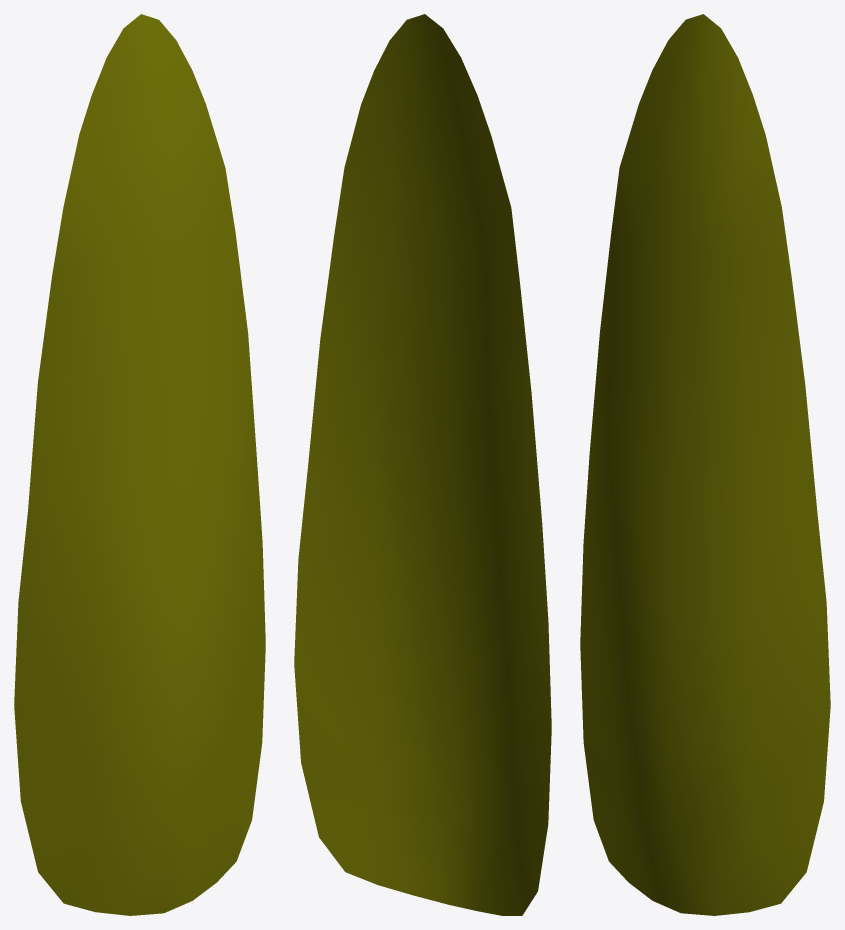
The model's file is MD_nail_point_HandL.Little.fbx.
3 views of the same model, side by side, from view 1: azimuth 30°, elevation 25°; view 2: azimuth 150°, elevation 25°; view 3: azimuth 330°, elevation 25° (orthographic). The views are drawn at different scales.
Visible parts, largest first — view 1: MD_nail_point_HandL.Little; view 2: MD_nail_point_HandL.Little; view 3: MD_nail_point_HandL.Little.
Part boxes in pixels (left/top/right/bottom): MD_nail_point_HandL.Little: left=14, top=14, right=265, bottom=915; MD_nail_point_HandL.Little: left=294, top=14, right=551, bottom=915; MD_nail_point_HandL.Little: left=580, top=14, right=830, bottom=915.
Bounding box in the file's own units: 0.5883 × 1.98 × 0.149.
